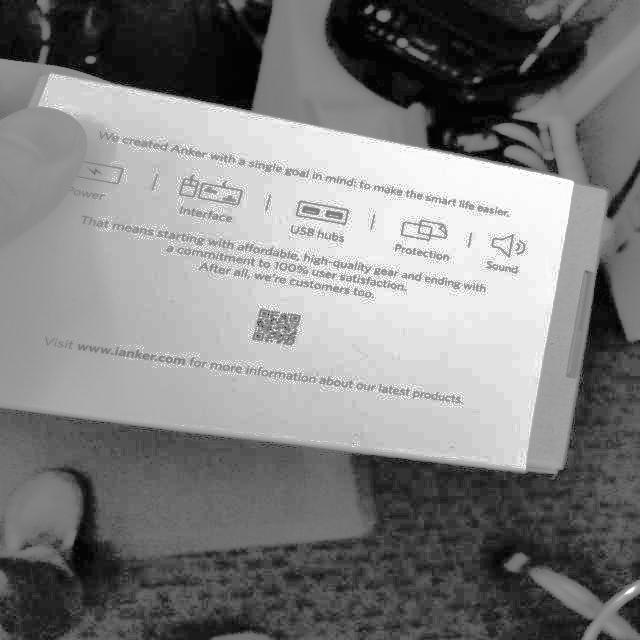qr_code: (246, 299, 310, 359)
